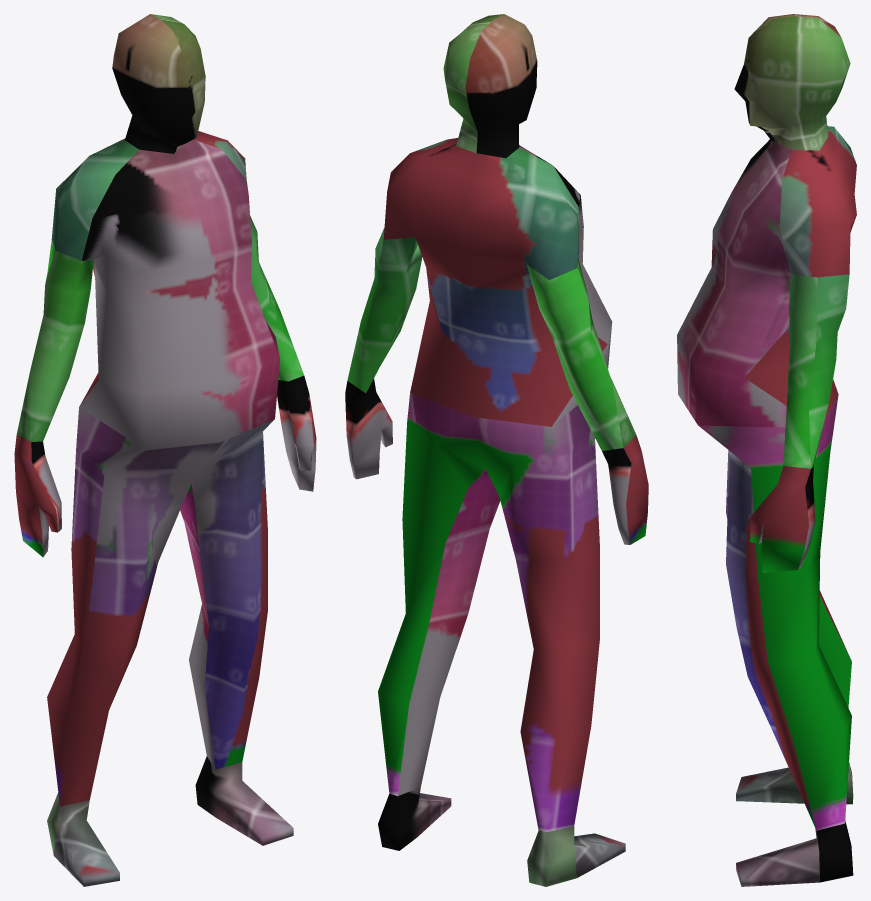
Rendered from male_version_obese.fbx.
3 views of the same model, side by side, from view 1: azimuth 30°, elevation 25°; view 2: azimuth 150°, elevation 25°; view 3: azimuth 270°, elevation 25° (orthographic).
Parts seen in each view (by area): view 1: man_Cube.001; view 2: man_Cube.001; view 3: man_Cube.001.
Part boxes in pixels (x1,y1,x2,y2): man_Cube.001: [14, 14, 316, 886]; man_Cube.001: [345, 14, 648, 886]; man_Cube.001: [677, 14, 856, 886].
Size of the model in its own units: 6372 by 17557 by 3493.
